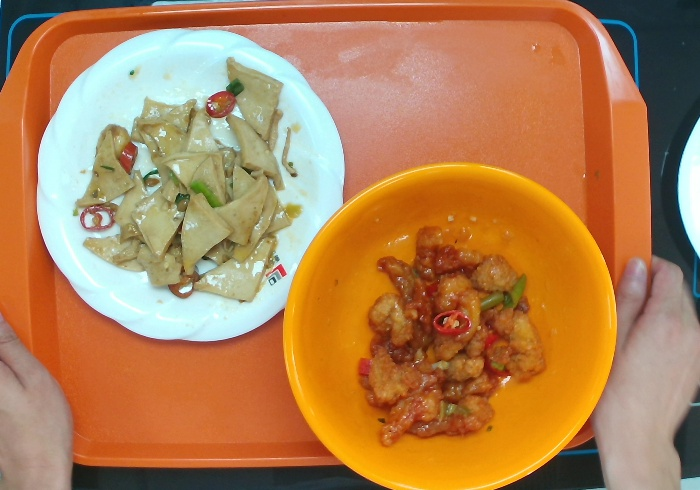ZNLD-Hua_Bian_Wan: (34, 25, 348, 344)
ZNLD-Ju_Se_Tang_Wan: (279, 157, 619, 490)
